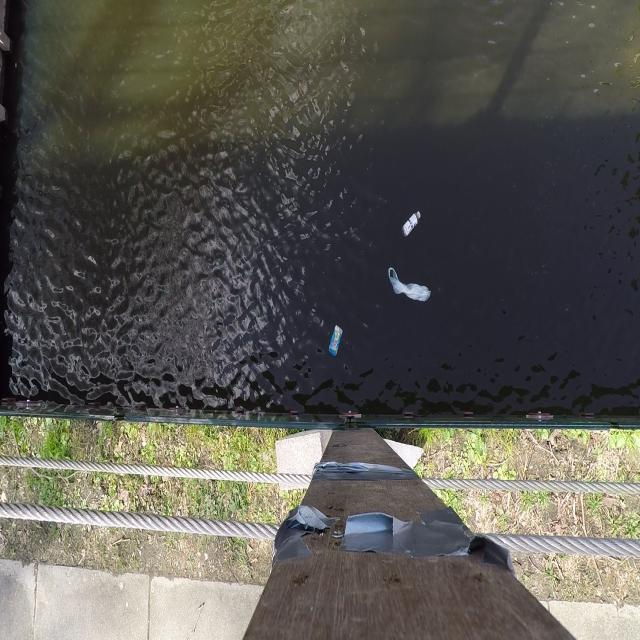Bouteille plastique: (402, 207, 423, 246)
Non plastique: (326, 318, 344, 362)
Sac plastique: (385, 265, 431, 309)
